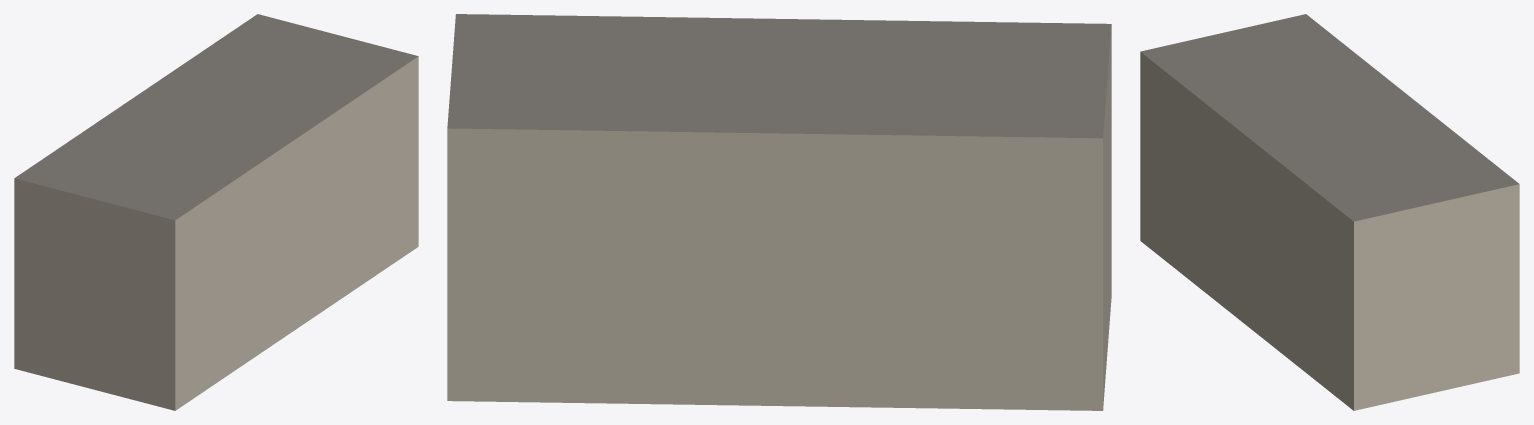
3 renders of one model, left to right at view 1: azimuth 30°, elevation 25°; view 2: azimuth 150°, elevation 25°; view 3: azimuth 270°, elevation 25°, orthographic. The views are drawn at different scales.
Parts seen in each view (by area): view 1: HP-w369317481; view 2: HP-w369317481; view 3: HP-w369317481.
Boxes of the visible parts, x1,y1,x2,y2 form: HP-w369317481: [14, 14, 418, 410]; HP-w369317481: [447, 14, 1111, 410]; HP-w369317481: [1140, 14, 1519, 410].
Size of the model in its own units: 42.34 by 18 by 32.7.
